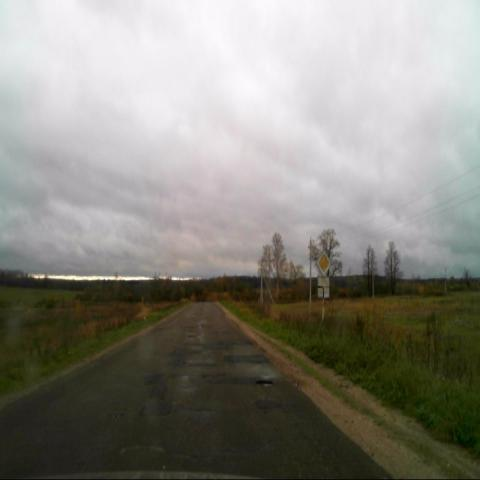8_13: (317, 276, 329, 299)
